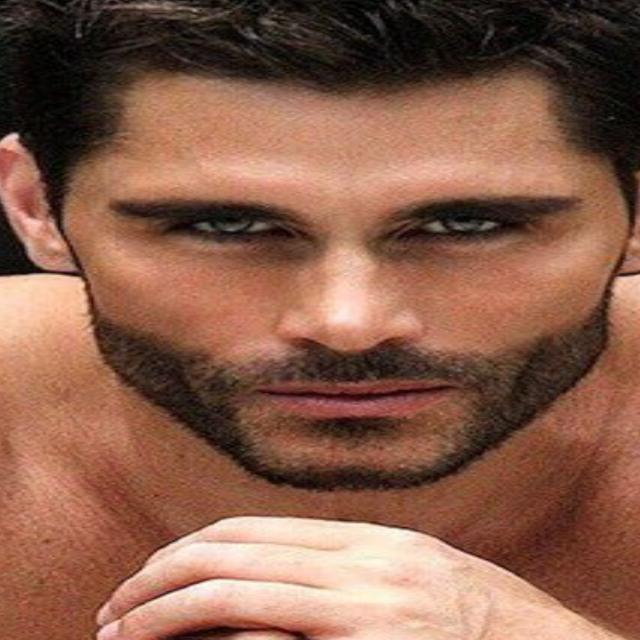earlobe: (0, 130, 79, 273)
